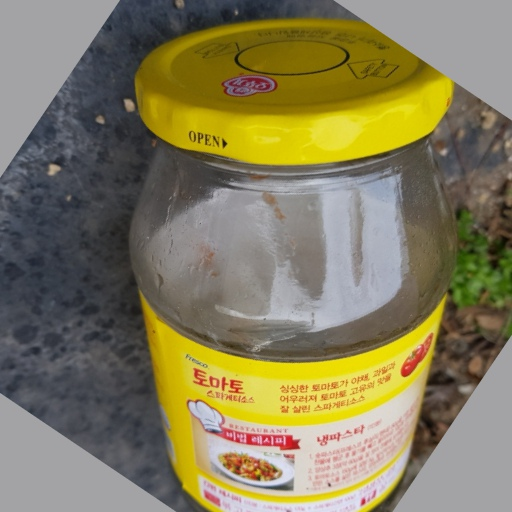Glass_5: (134, 15, 452, 512)
